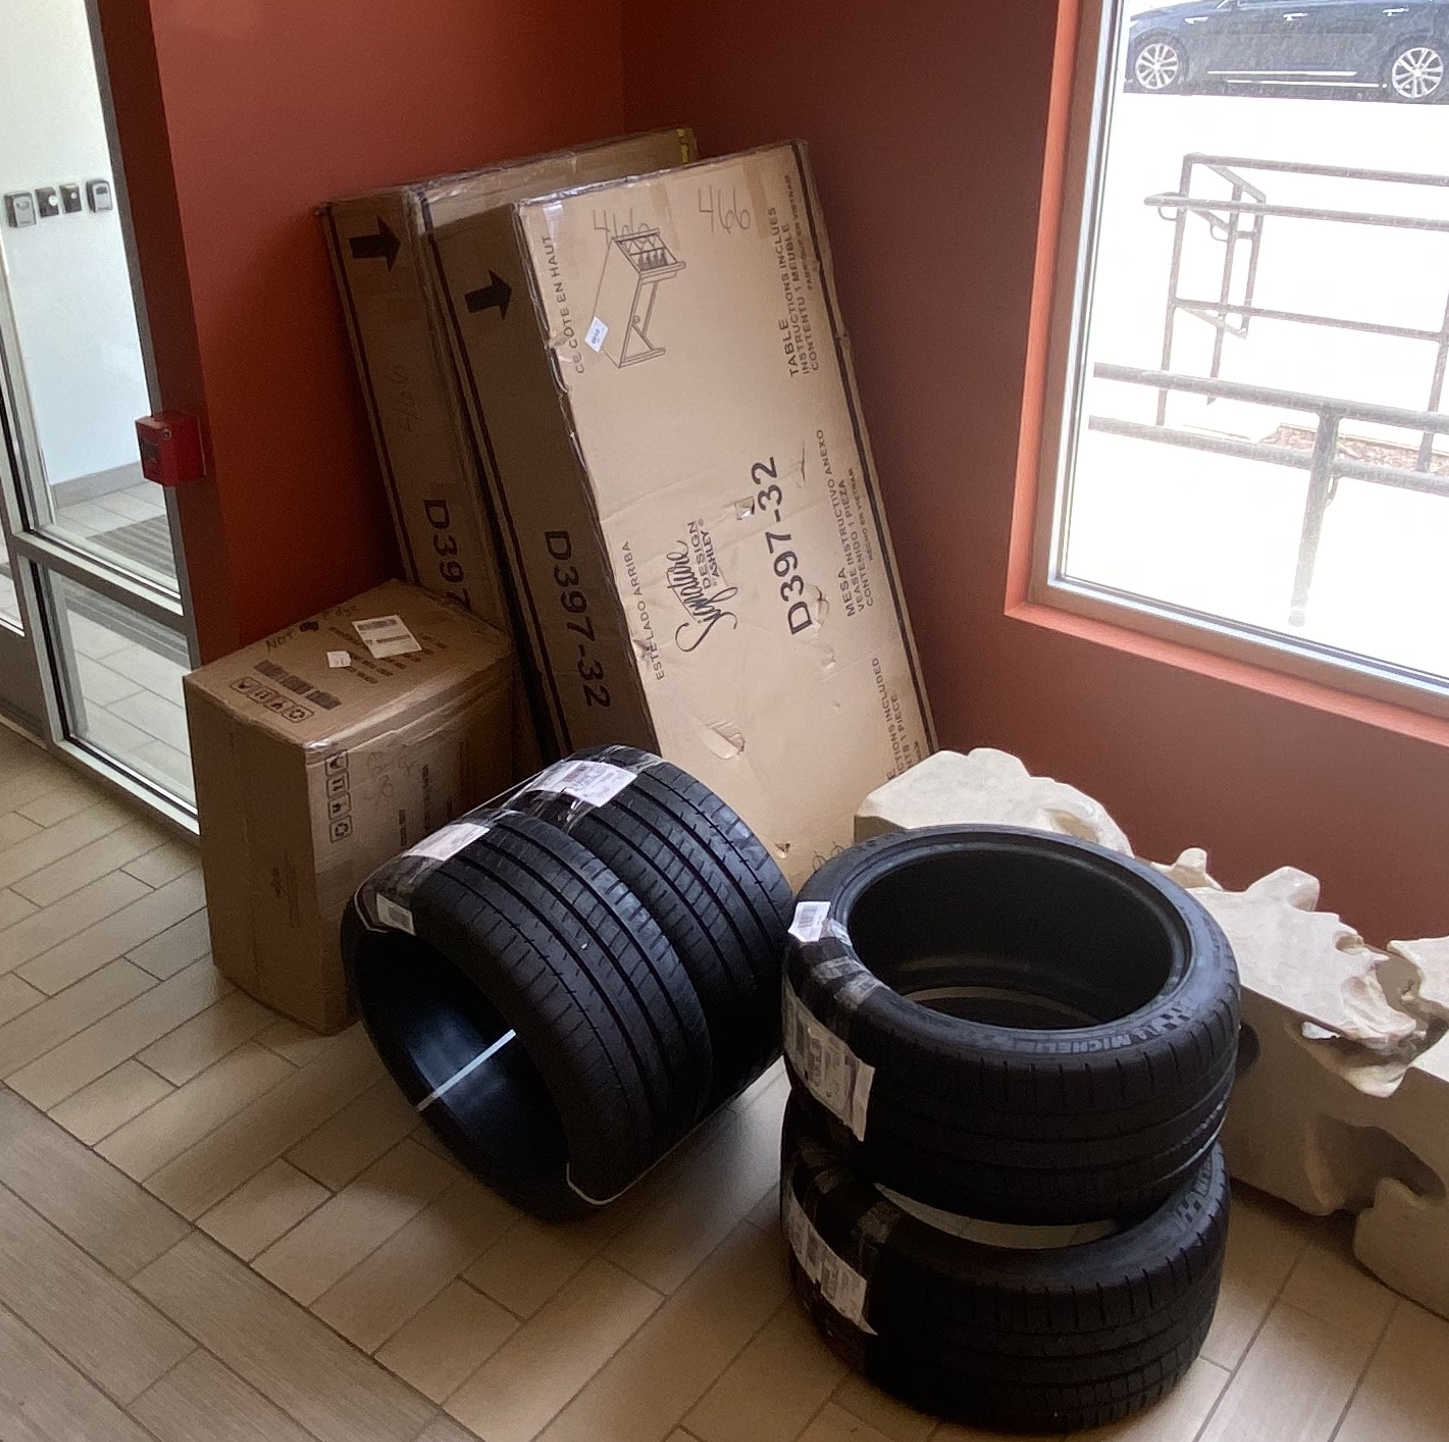package: (442, 154, 929, 854), (325, 127, 730, 745), (188, 582, 509, 1034)
